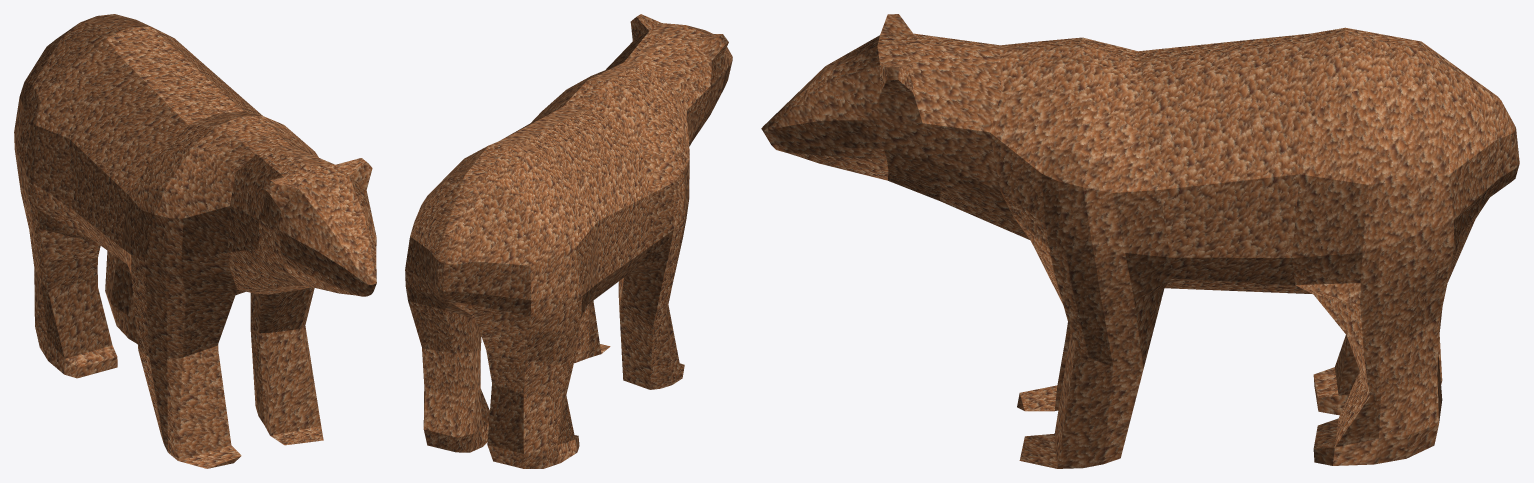
The model's file is Bear.obj.
3 renders of one model, left to right at view 1: azimuth 30°, elevation 25°; view 2: azimuth 150°, elevation 25°; view 3: azimuth 270°, elevation 25°, orthographic. The views are drawn at different scales.
Parts seen in each view (by area): view 1: Bear1; view 2: Bear1; view 3: Bear1.
Part boxes in pixels (x1,y1,x2,y2): Bear1: (14,14,376,468); Bear1: (405,14,732,468); Bear1: (761,14,1519,468).
Size of the model in its own units: 0.8729 by 1.52 by 2.67.
Materials: 1 (1 with a texture image).
